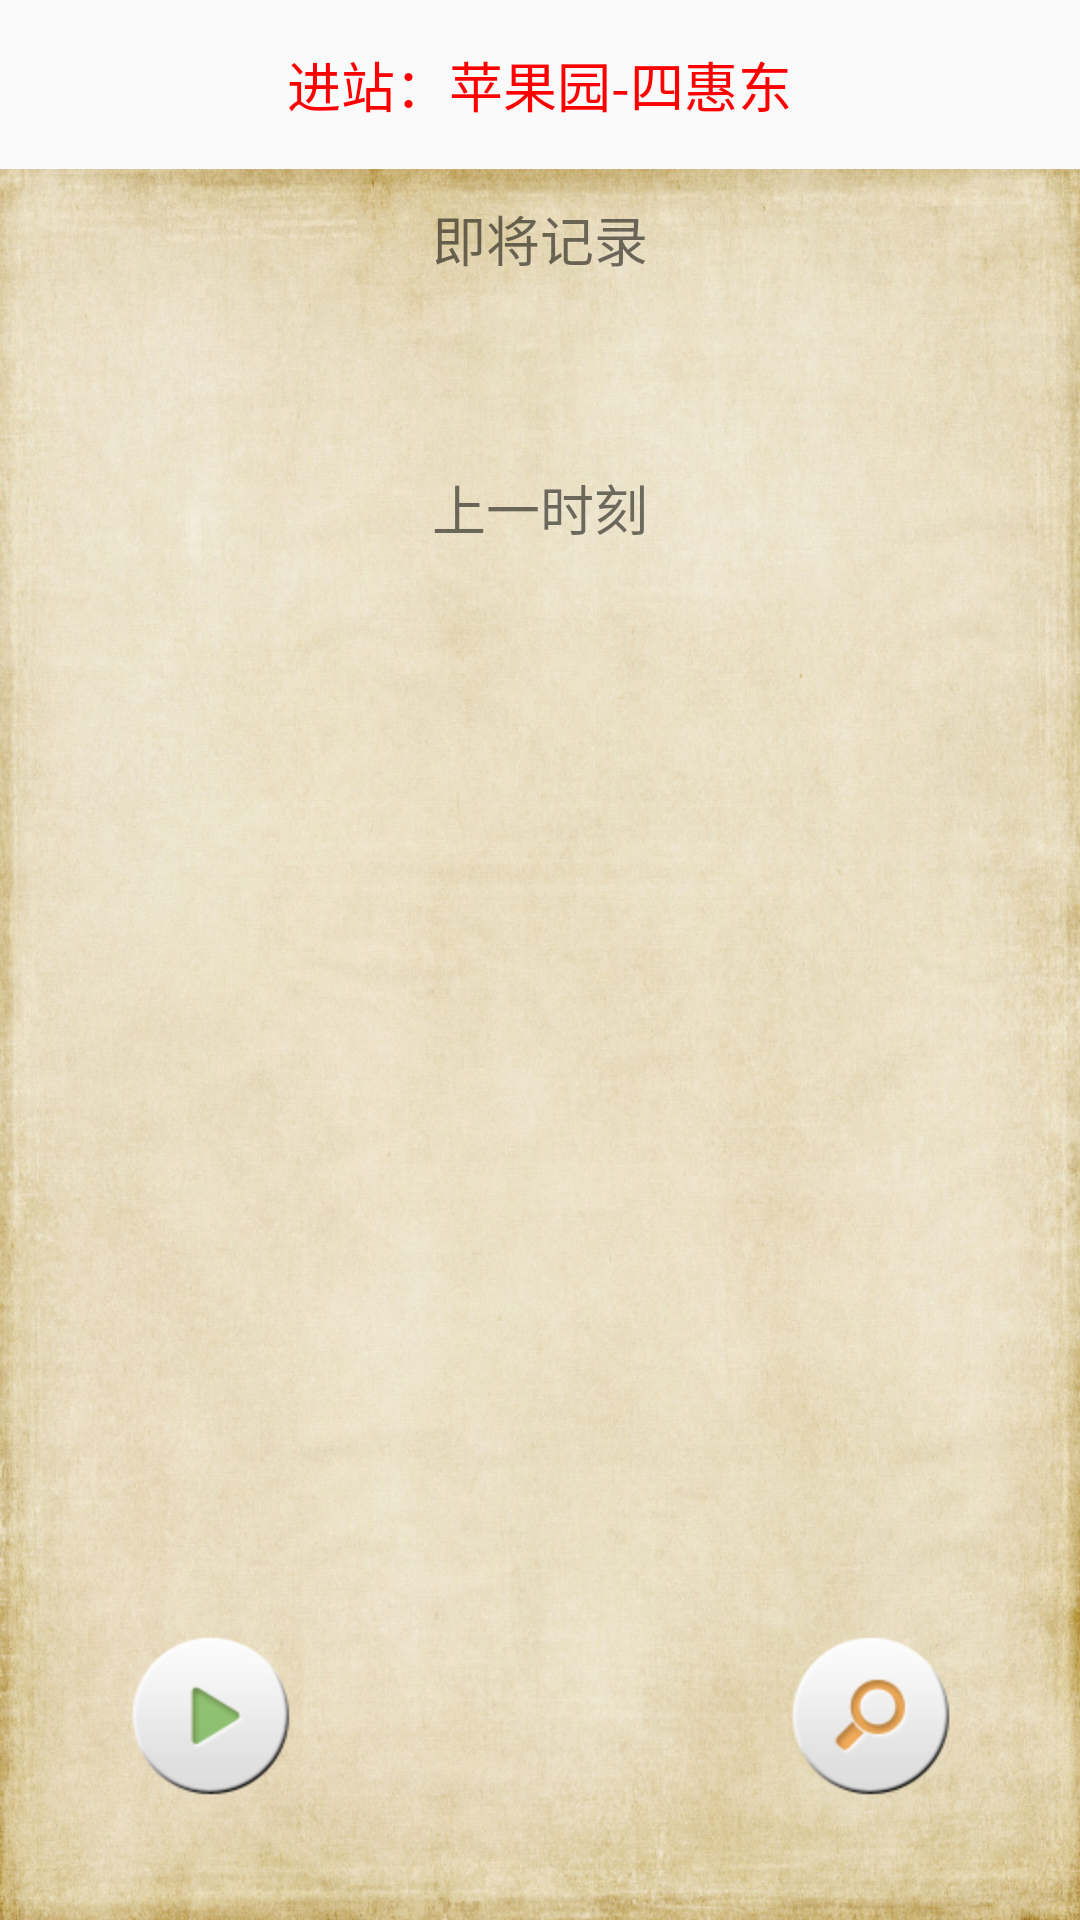

Screen size 1080 × 1920. Icon name, then its center in pixels as (x=x, y=y):
search survey: (x=873, y=1716)
start survey: (x=211, y=1716)
